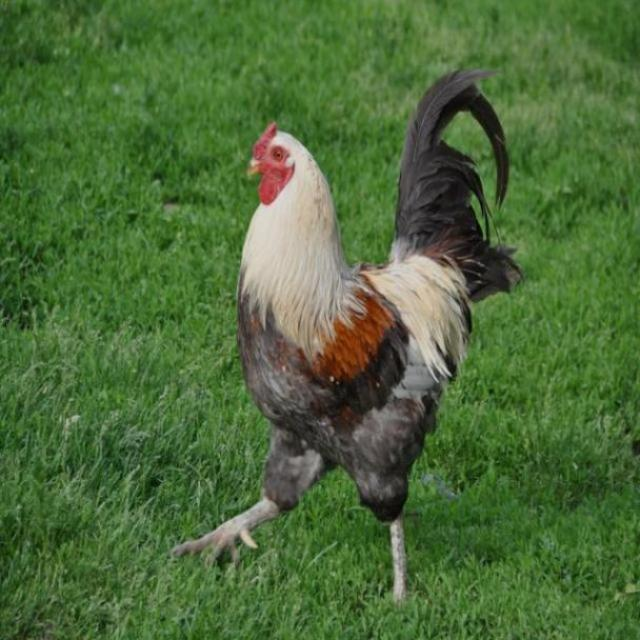Chicken: (200, 78, 531, 600)
